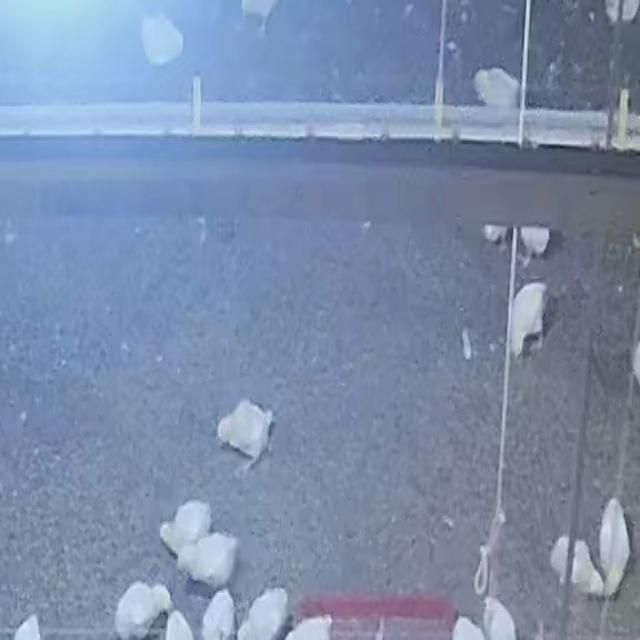chicken: (216, 400, 278, 476), (114, 580, 170, 640), (597, 500, 630, 597), (184, 530, 242, 585), (509, 282, 548, 358), (159, 497, 209, 554), (552, 536, 599, 594), (239, 588, 288, 640), (140, 12, 185, 66), (472, 66, 522, 108), (203, 586, 239, 640), (483, 596, 518, 640), (175, 539, 208, 582), (516, 227, 550, 267), (240, 0, 282, 32), (286, 614, 334, 640), (164, 609, 197, 640), (604, 0, 640, 27), (452, 615, 486, 640), (159, 522, 182, 556), (13, 614, 41, 640)
